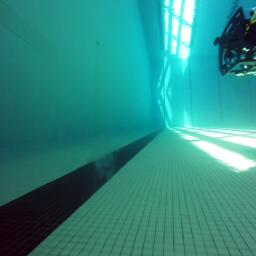back: (213, 5, 256, 78)
